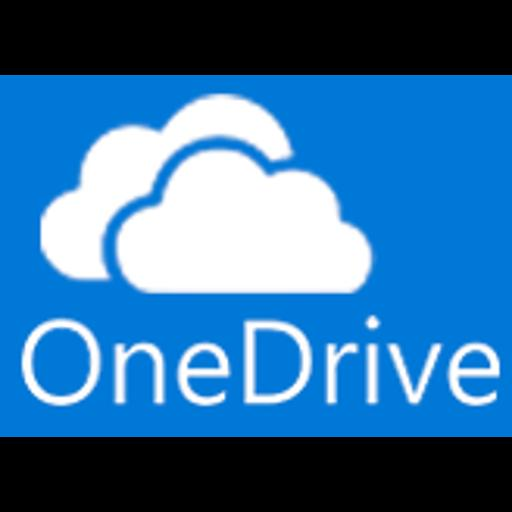Outlook: (0, 75, 512, 437)
